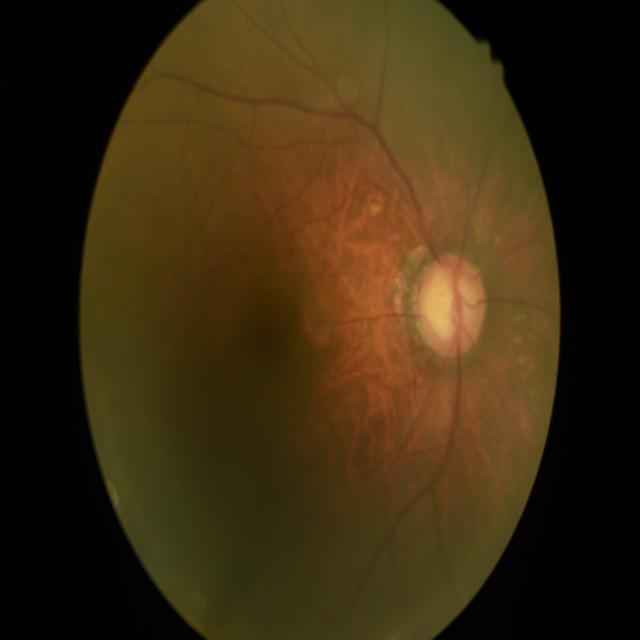cup: (427, 268, 473, 342)
disk: (418, 254, 486, 358)
